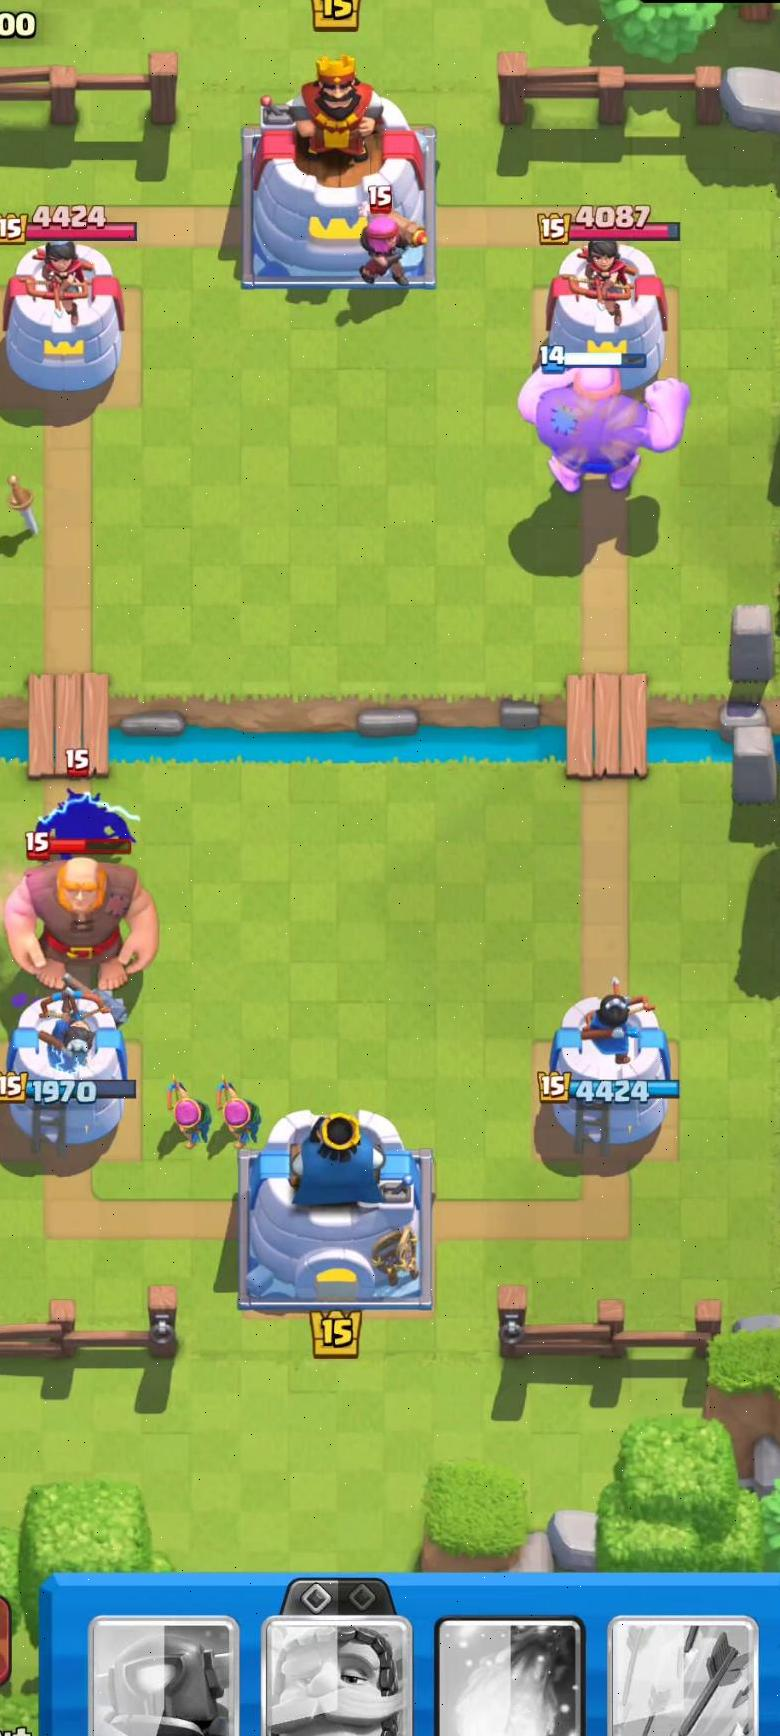enemy_electro_wizard: (17, 737, 165, 842)
enemy_firecracker: (343, 197, 430, 296)
enemy_giant: (0, 841, 165, 1003)
player_giant: (509, 339, 694, 507)
